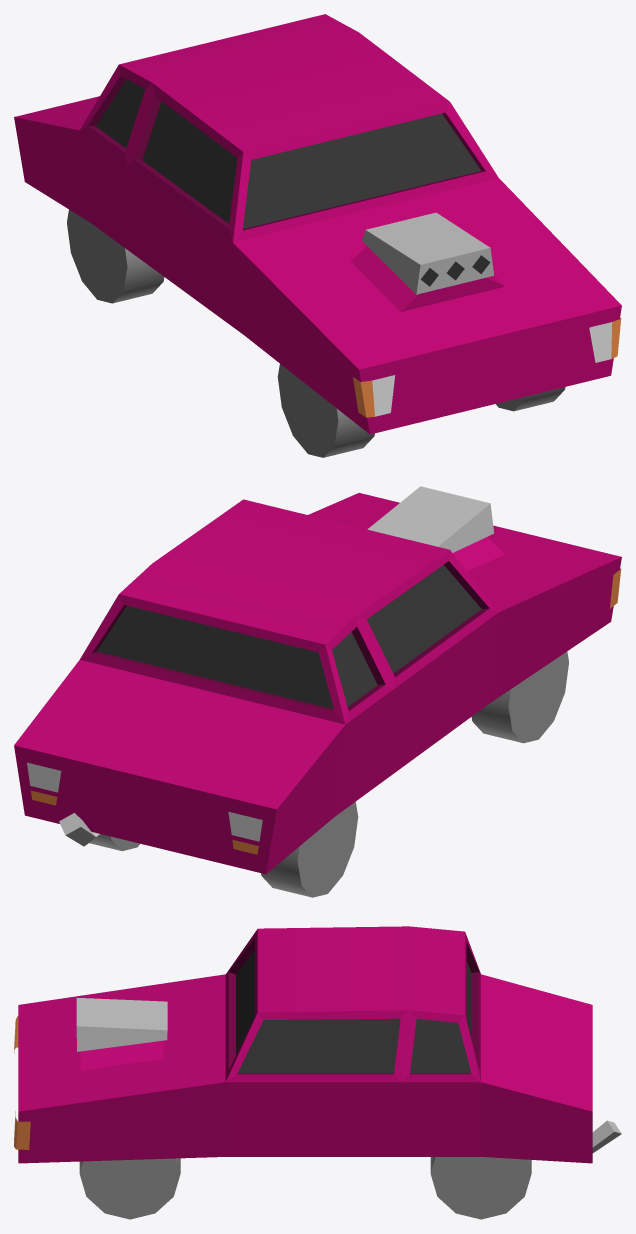
File: musclecar_06.fbx
3 views of the same model, one above another, from view 1: azimuth 30°, elevation 25°; view 2: azimuth 150°, elevation 25°; view 3: azimuth 270°, elevation 25° (orthographic). The views are drawn at different scales.
Parts seen in each view (by area): view 1: musclecar_06; view 2: musclecar_06; view 3: musclecar_06.
Boxes of the visible parts, x1=… form: musclecar_06: x1=14, y1=14, x2=621, y2=457; musclecar_06: x1=14, y1=486, x2=621, y2=897; musclecar_06: x1=14, y1=926, x2=621, y2=1219.
Bounding box in the file's own units: 1.6 × 1.41 × 3.81.
